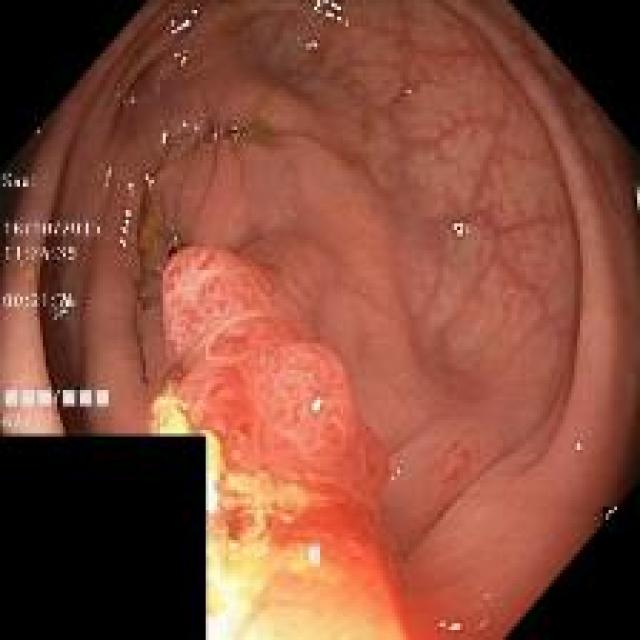Polyps: (152, 248, 404, 637)
